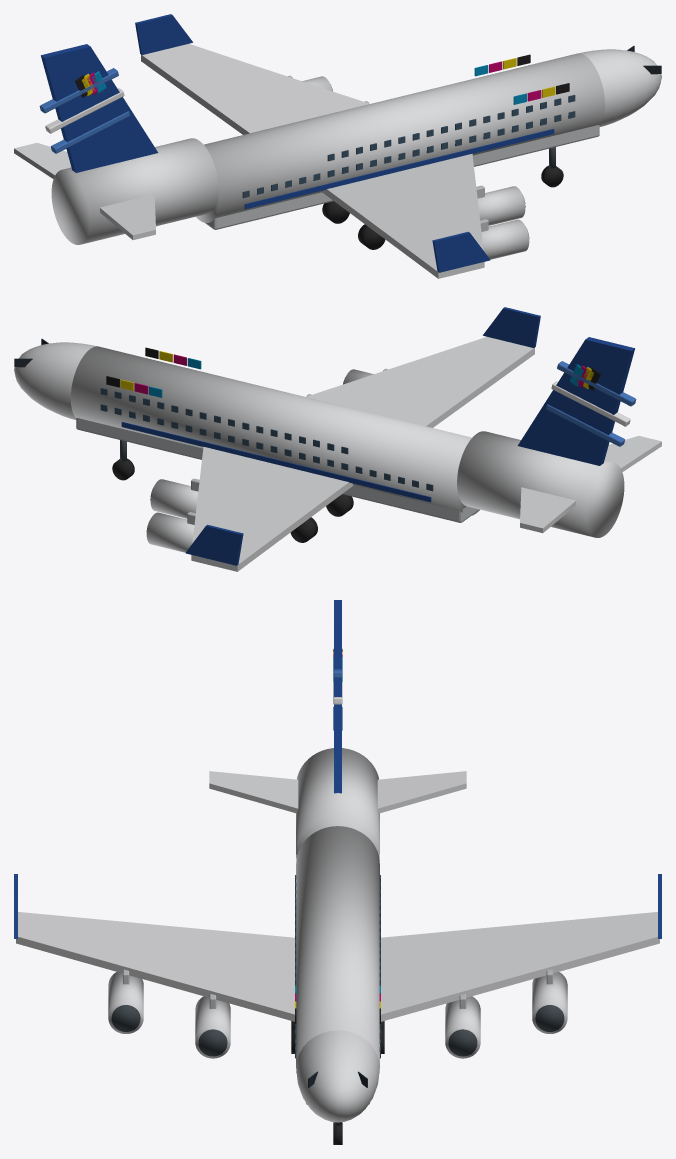
File: airplane.glb
3 renders of one model, top to bottom at view 1: azimuth 30°, elevation 25°; view 2: azimuth 150°, elevation 25°; view 3: azimuth 270°, elevation 25°, orthographic. The views are drawn at different scales.
Parts seen in each view (by area): view 1: airplane; view 2: airplane; view 3: airplane.
Part boxes in pixels (x1,y1,x2,y2): airplane: [14, 14, 661, 278]; airplane: [14, 307, 661, 571]; airplane: [14, 600, 661, 1144].
Size of the model in its own units: 2.4 by 0.94 by 2.01.
